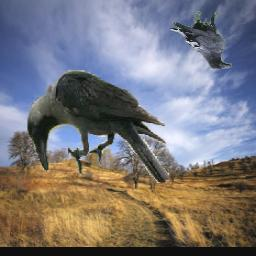Crow: (26, 71, 168, 184), (170, 11, 232, 69)
